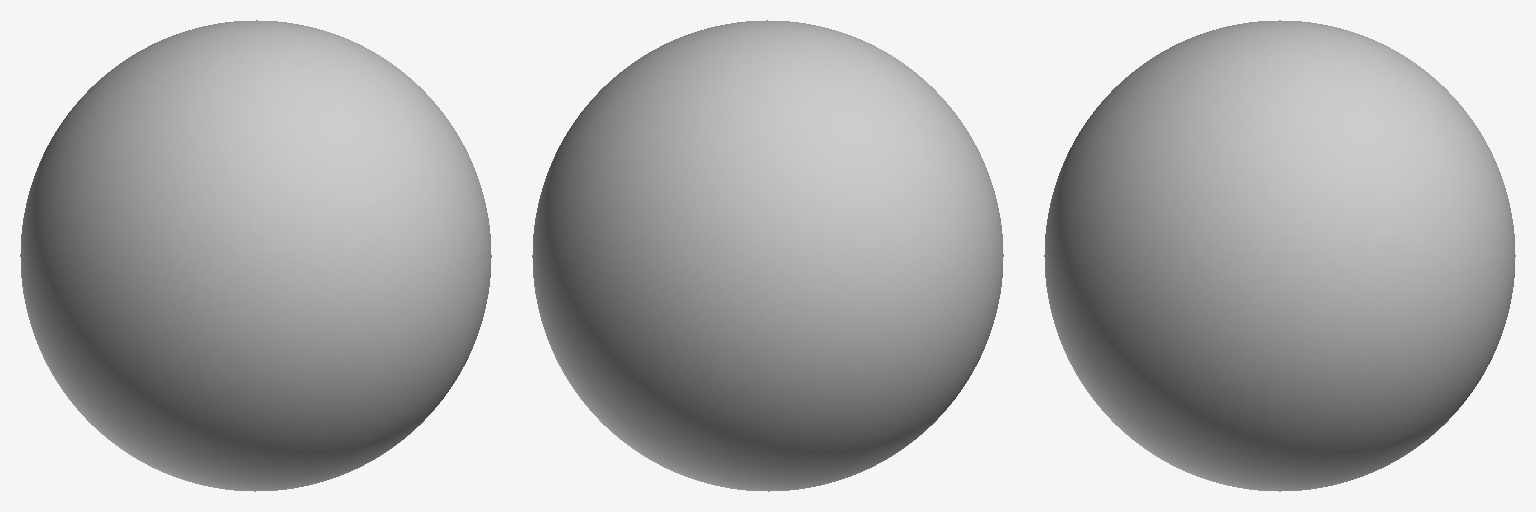
The model's file is hipolysphere.obj.
3 views of the same model, side by side, from view 1: azimuth 30°, elevation 25°; view 2: azimuth 150°, elevation 25°; view 3: azimuth 270°, elevation 25° (orthographic).
Visible parts, largest first — view 1: Cube_sphere; view 2: Cube_sphere; view 3: Cube_sphere.
Part boxes in pixels (left/top/right/bottom): Cube_sphere: left=20, top=20, right=491, bottom=491; Cube_sphere: left=532, top=20, right=1003, bottom=491; Cube_sphere: left=1044, top=20, right=1515, bottom=491.
Size of the model in its own units: 1.71 by 1.71 by 1.71.